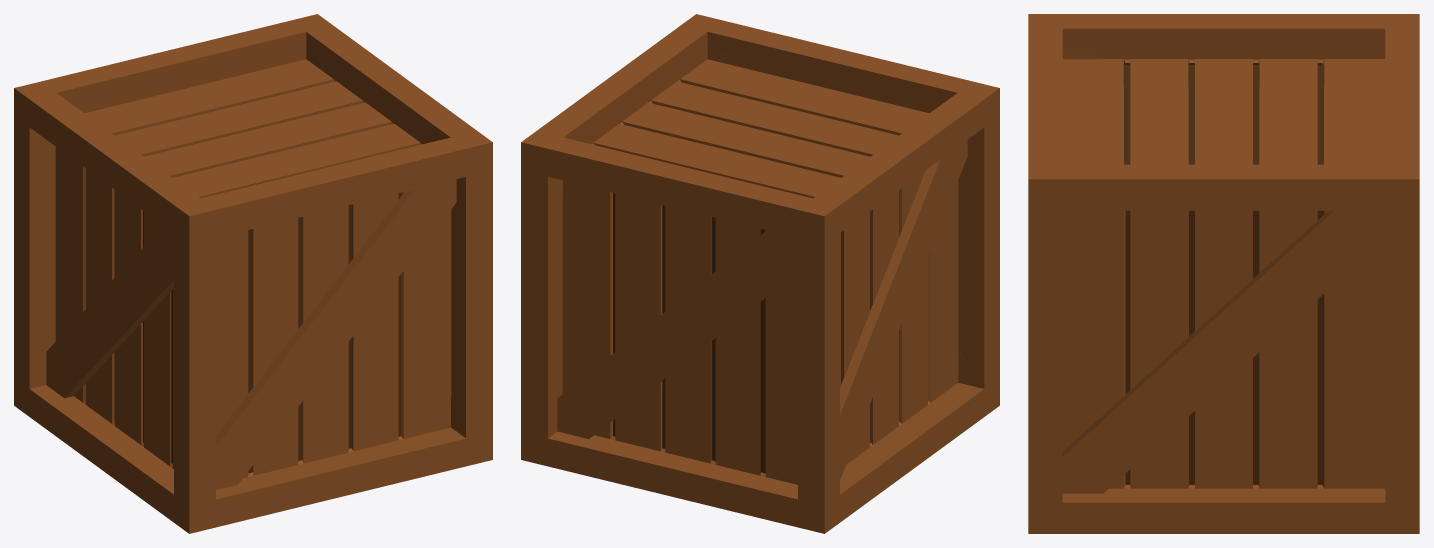
The model's file is create.fbx.
3 renders of one model, left to right at view 1: azimuth 30°, elevation 25°; view 2: azimuth 150°, elevation 25°; view 3: azimuth 270°, elevation 25°, orthographic. The views are drawn at different scales.
Visible parts, largest first — view 1: Cube; view 2: Cube; view 3: Cube.
Boxes of the visible parts, x1=… form: Cube: x1=14, y1=14, x2=492, y2=533; Cube: x1=521, y1=14, x2=999, y2=533; Cube: x1=1028, y1=14, x2=1419, y2=533.
Size of the model in its own units: 100 by 100 by 100.
